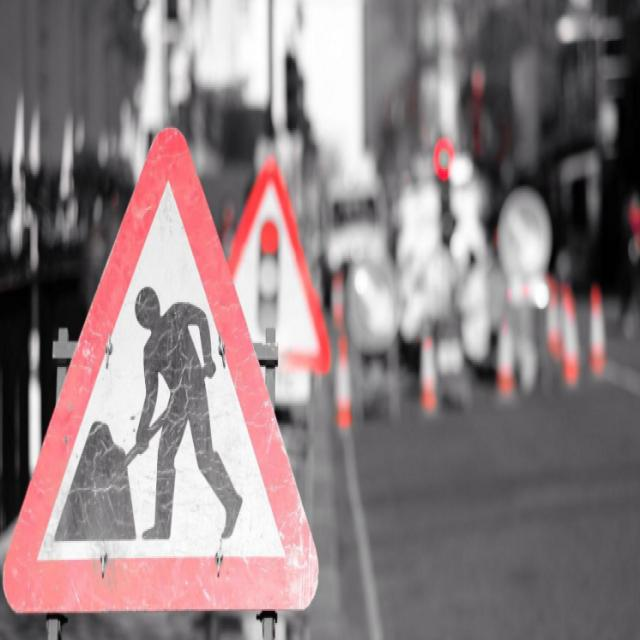WORKERS: (4, 128, 317, 611)
